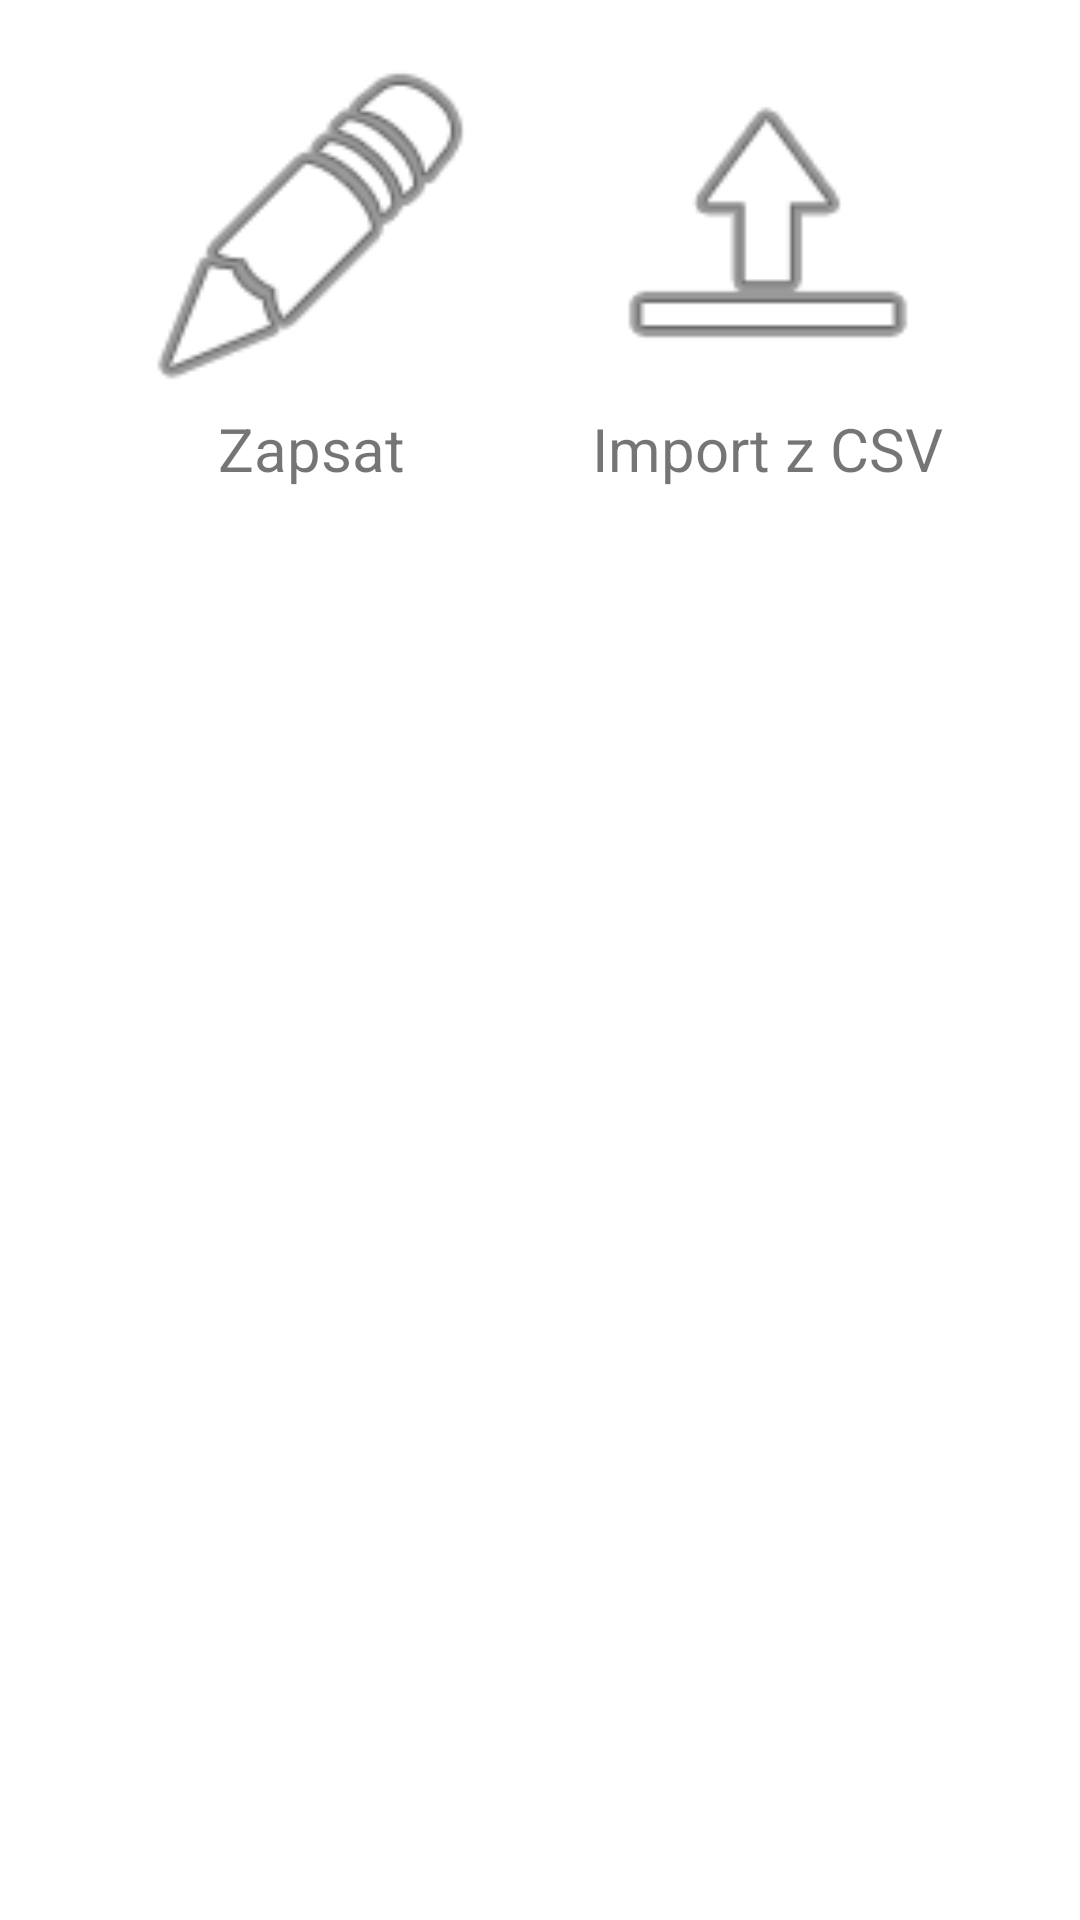

Where icons sit on this 1080px×1920px app screen, as (x1, y1, x2, y2):
edit: (158, 73, 463, 378)
